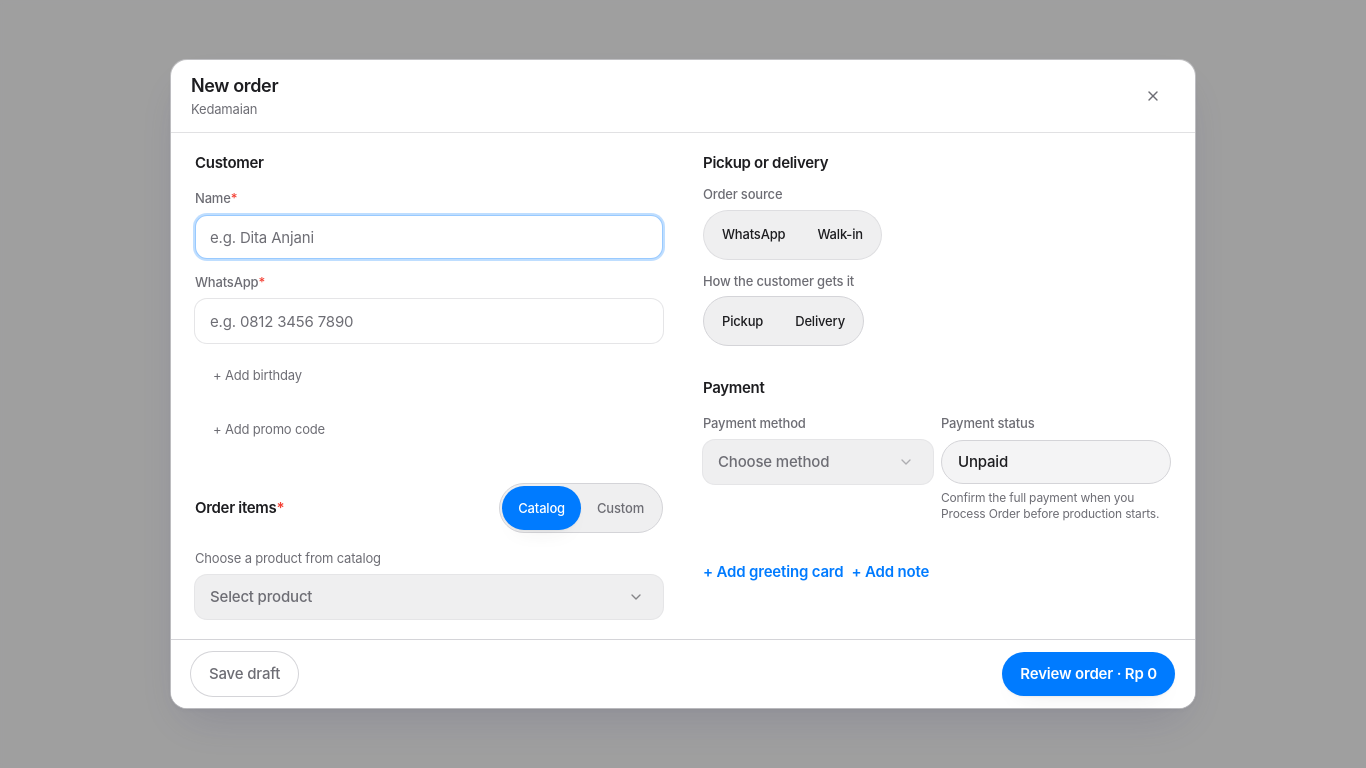
Test: New Order form › a delivery still shows address, date and time
Click the button "WhatsApp" at (754, 235), box [706, 213, 801, 257]
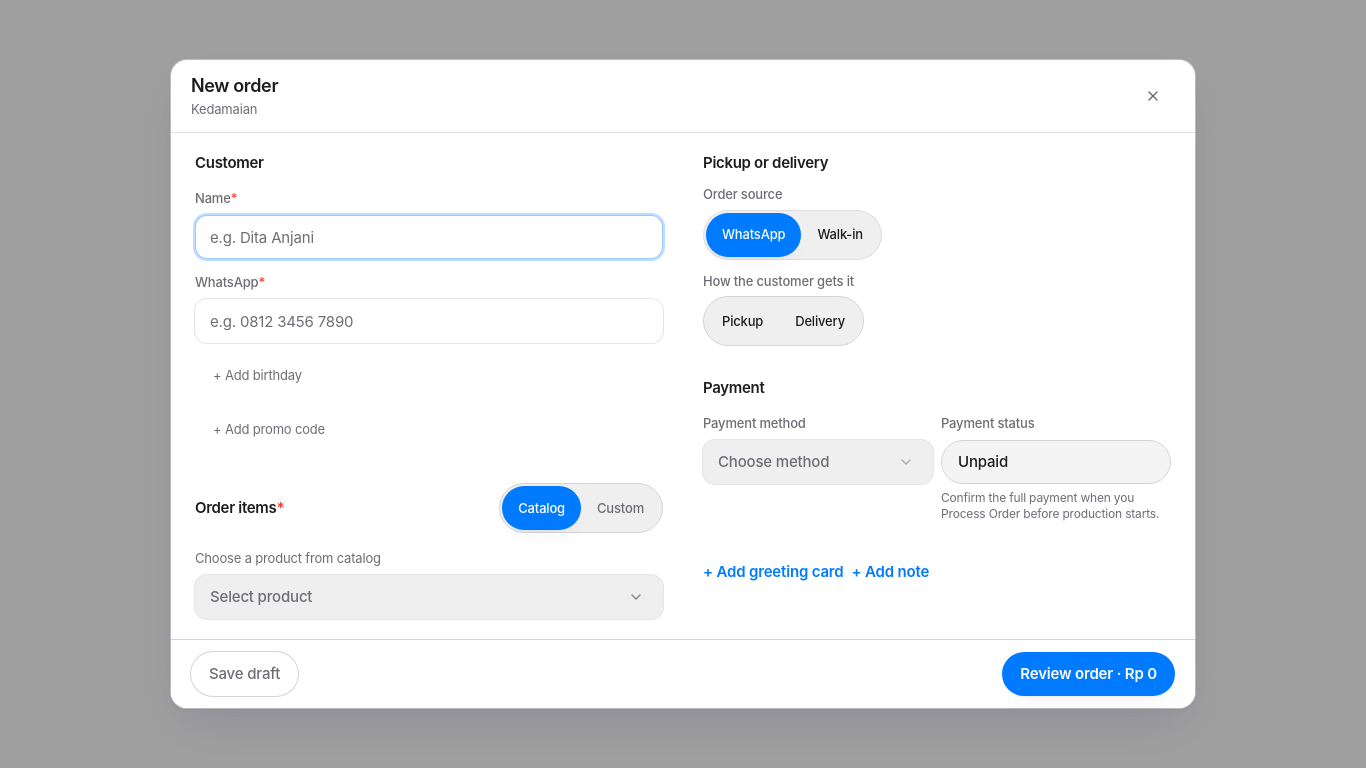
Click the button "Delivery" at (820, 321), box [779, 299, 861, 343]
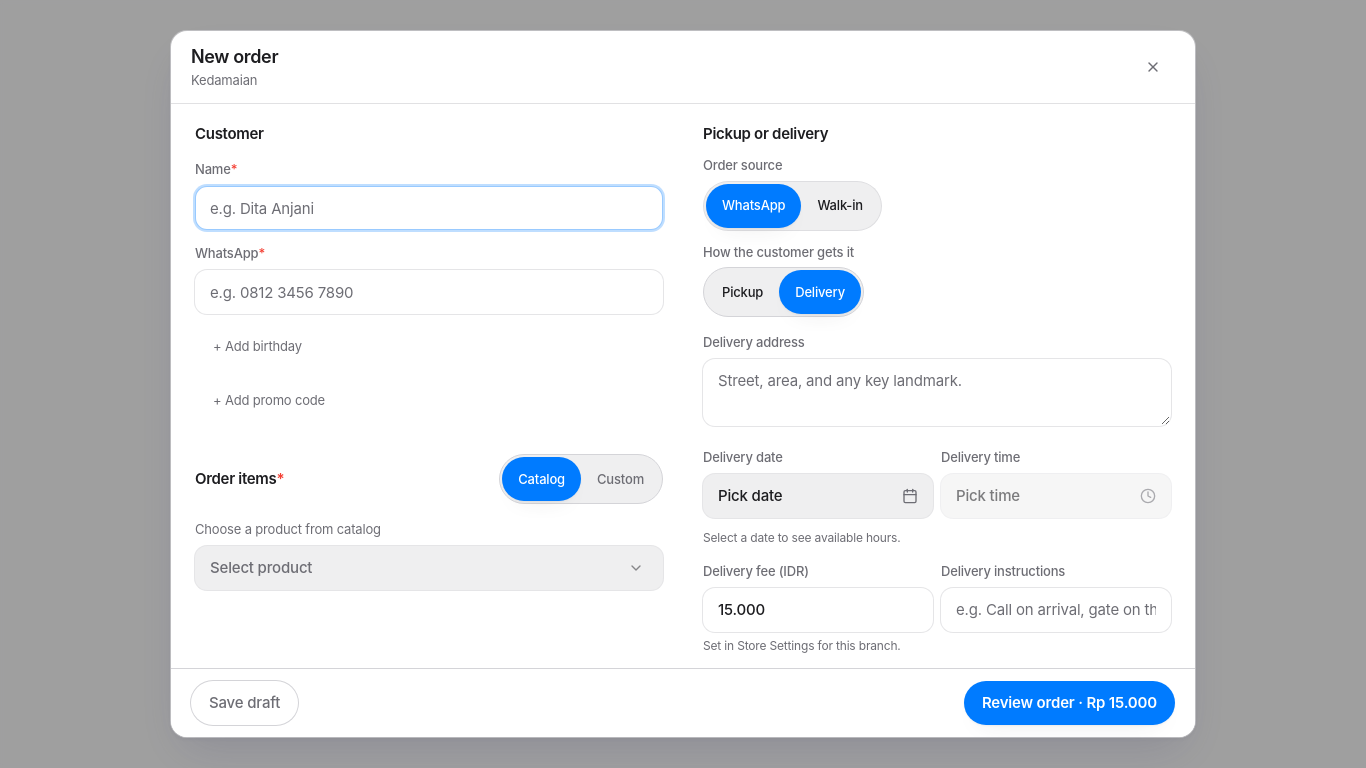
Now the text box with id "deliveryAddress" is shown, box [703, 359, 1171, 426]
Now the button with id "deliveryDate" is shown, box [703, 474, 933, 518]
Now the button with id "deliveryTime" is shown, box [941, 474, 1171, 518]
